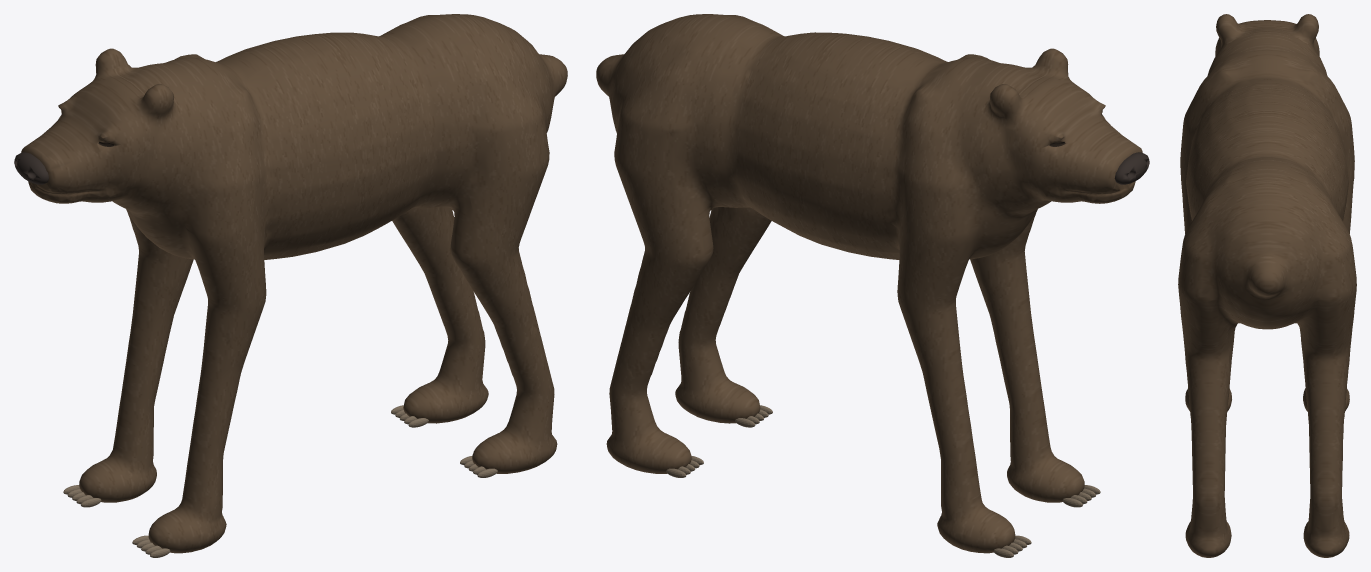
3 views of the same model, side by side, from view 1: azimuth 30°, elevation 25°; view 2: azimuth 150°, elevation 25°; view 3: azimuth 270°, elevation 25° (orthographic). The views are drawn at different scales.
Parts seen in each view (by area): view 1: Arctodus_simus_continuous_fur_envelope, Integrated nasal leather; view 2: Arctodus_simus_continuous_fur_envelope, Integrated nasal leather; view 3: Arctodus_simus_continuous_fur_envelope.
Part boxes in pixels (<box>): Arctodus_simus_continuous_fur_envelope: <box>21,14,567,553</box>; Integrated nasal leather: <box>14,152,48,184</box>; Arctodus_simus_continuous_fur_envelope: <box>596,14,1142,553</box>; Integrated nasal leather: <box>1114,152,1149,184</box>; Arctodus_simus_continuous_fur_envelope: <box>1178,14,1356,557</box>.
Bounding box in the file's own units: 1 × 0.8089 × 0.3342.
4 materials, 1 textured.
